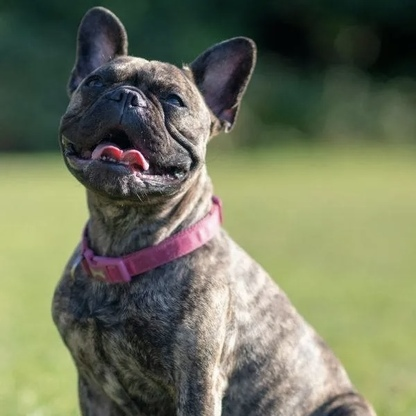bulldog: (48, 8, 380, 416)
